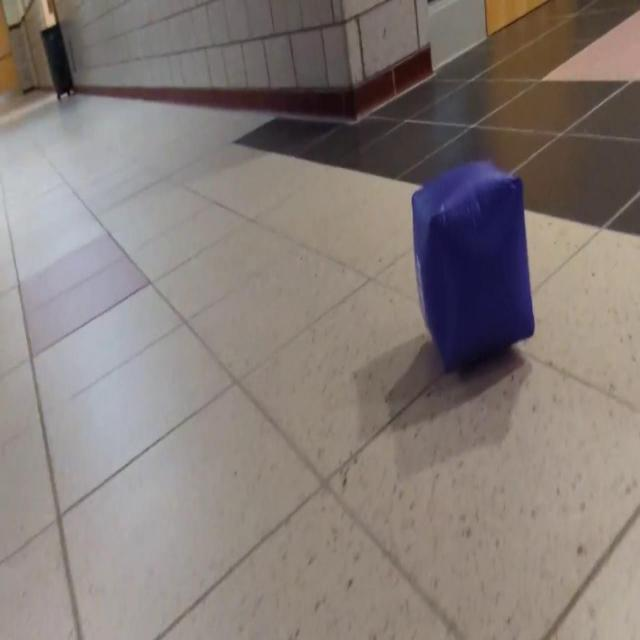frc_cube: (410, 156, 536, 372)
